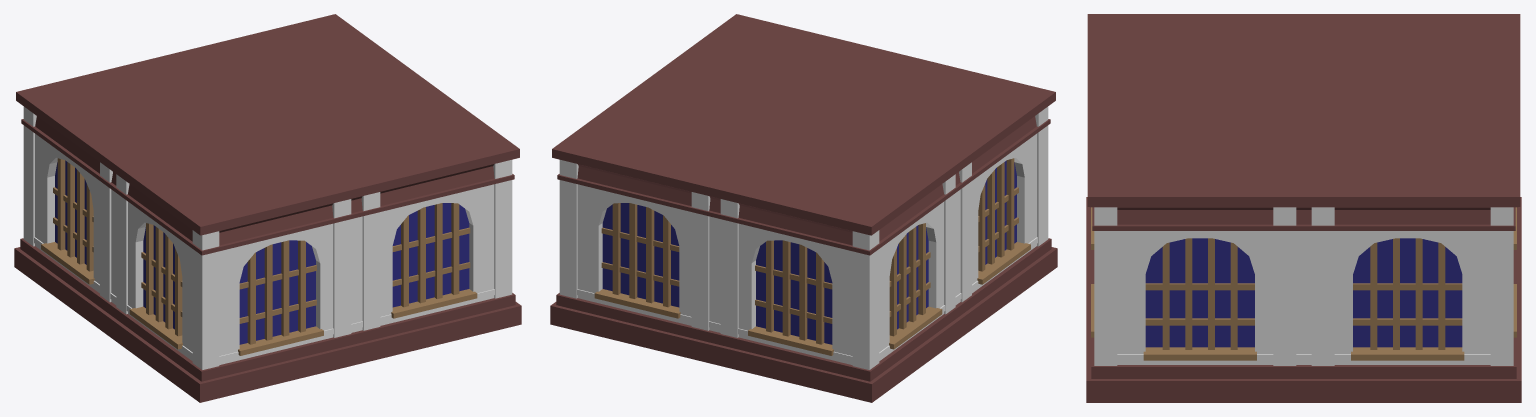
3 views of the same model, side by side, from view 1: azimuth 30°, elevation 25°; view 2: azimuth 150°, elevation 25°; view 3: azimuth 270°, elevation 25° (orthographic). The views are drawn at different scales.
Visible parts, largest first — view 1: floor10E, floor10.4Decor.001; view 2: floor10E, floor10.4Decor.001; view 3: floor10E, floor10.4Decor.001.
Part boxes in pixels (bbox=[...]): floor10E: bbox=[14, 14, 521, 402]; floor10.4Decor.001: bbox=[23, 106, 512, 369]; floor10E: bbox=[550, 14, 1057, 402]; floor10.4Decor.001: bbox=[559, 106, 1048, 369]; floor10E: bbox=[1086, 14, 1521, 402]; floor10.4Decor.001: bbox=[1094, 207, 1513, 365].
Bounding box in the file's own units: 224 × 117 × 224.
